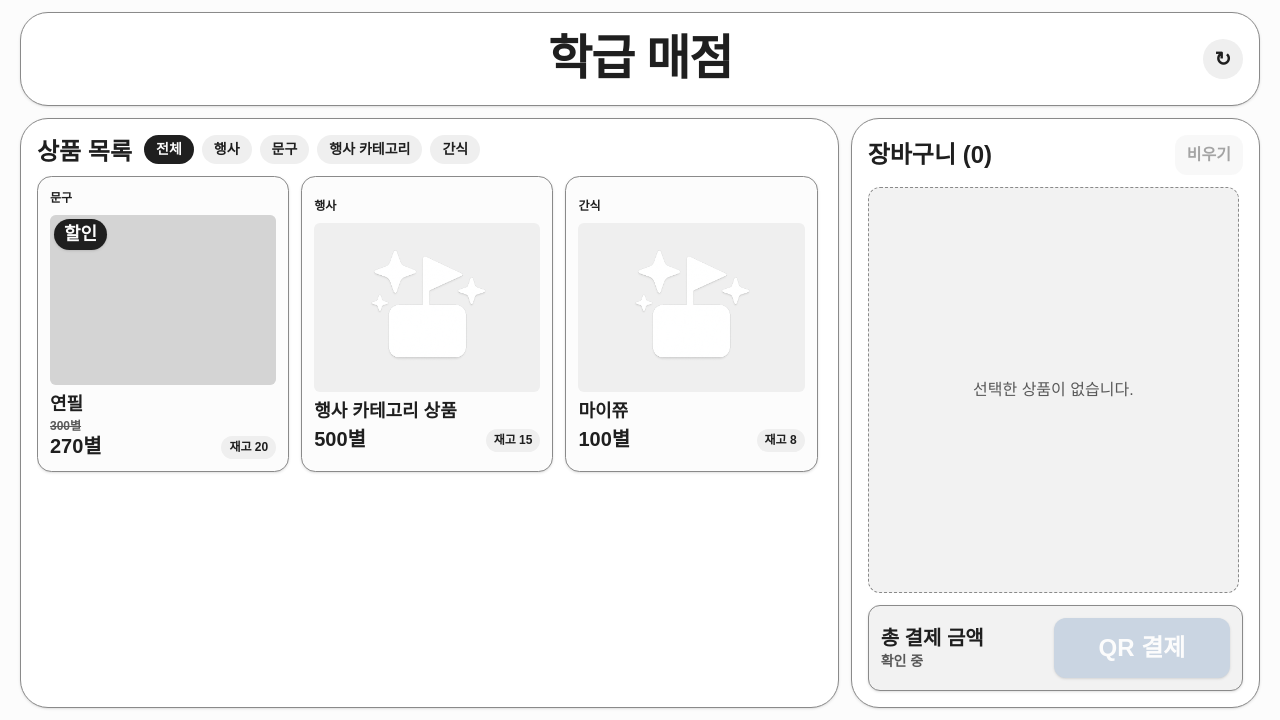
Test case: KioskApp › orders 전체, virtual 행사, then real categories without colliding with a real 행사 category
This screenshot has width=1280, height=720.
Expected: the button "카테고리 행사" is shown, x1=317 y1=135 x2=422 y2=164
Click the button "행사": [227, 150] box x1=202 y1=135 x2=252 y2=164
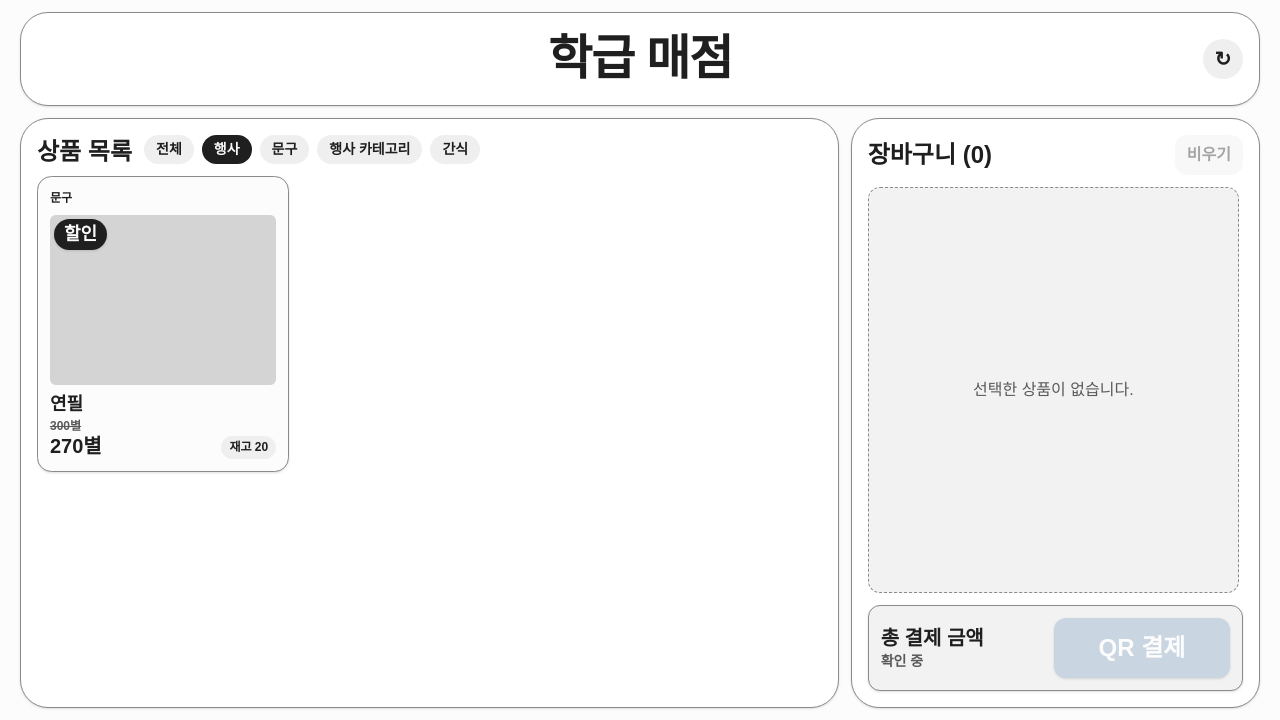
Expected: the text "연필" is shown, x1=50 y1=394 x2=83 y2=414
Now the button "행사 카테고리 상품" is gone
Now the button with test id "product-grid" no longer shows "마이쮸"
Click the button "카테고리 행사": [370, 150] box x1=317 y1=135 x2=422 y2=164
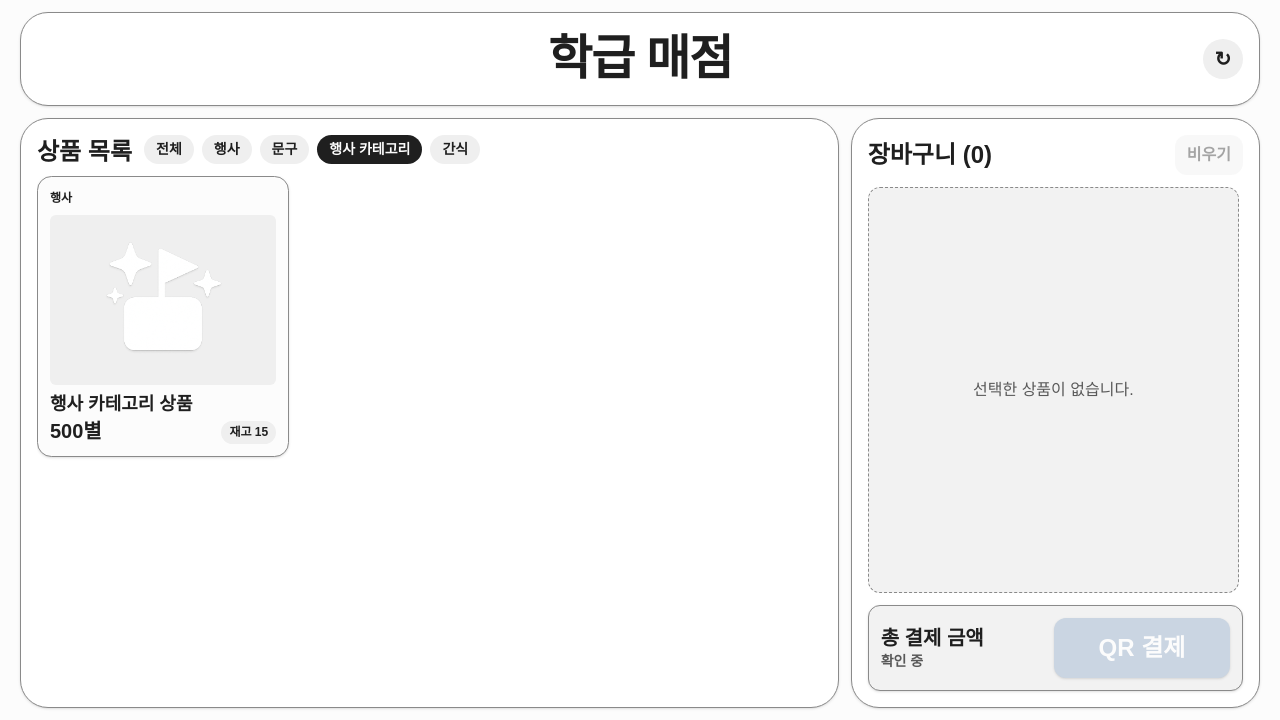
Now the text "행사 카테고리 상품" is shown, box x1=50 y1=394 x2=192 y2=414
Now the button "연필" is gone
